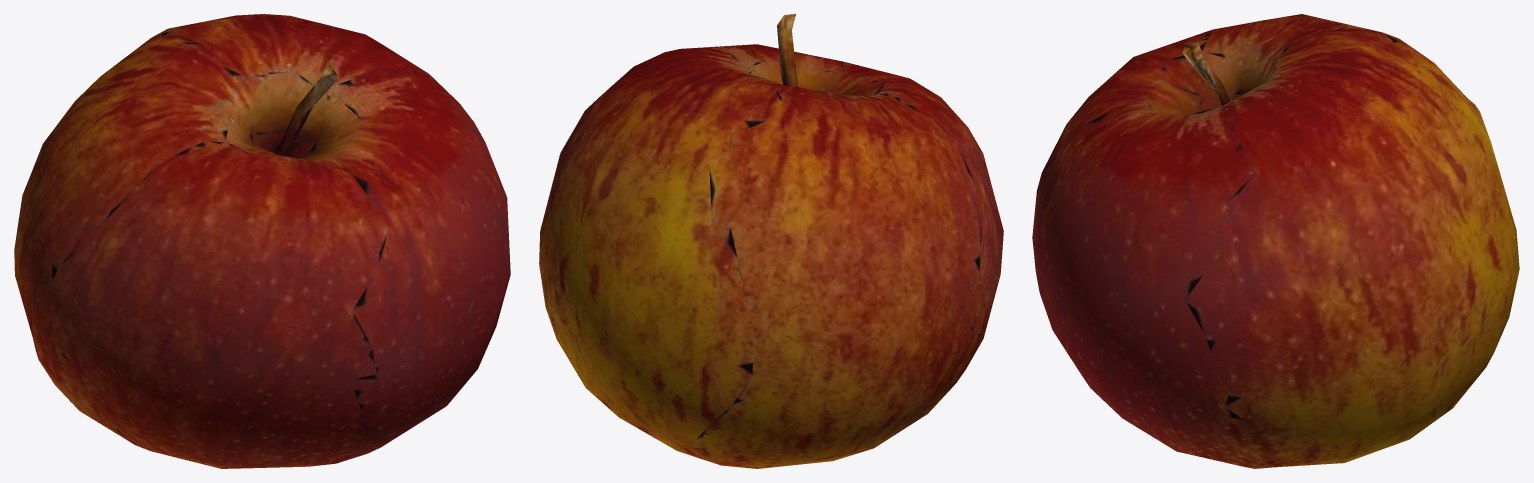
The model's file is apple-cadde291.glb.
The picture shows the model from 3 angles, left to right: view 1: azimuth 30°, elevation 25°; view 2: azimuth 150°, elevation 25°; view 3: azimuth 270°, elevation 25°; orthographic projection. The views are drawn at different scales.
Parts seen in each view (by area): view 1: food_apple_01; view 2: food_apple_01; view 3: food_apple_01.
Boxes of the visible parts, <box> form: food_apple_01: <box>14,14,510,468</box>; food_apple_01: <box>539,14,1003,468</box>; food_apple_01: <box>1032,14,1519,468</box>.
Size of the model in its own units: 0.0973 by 0.0851 by 0.0956.
1 material, 1 textured.
